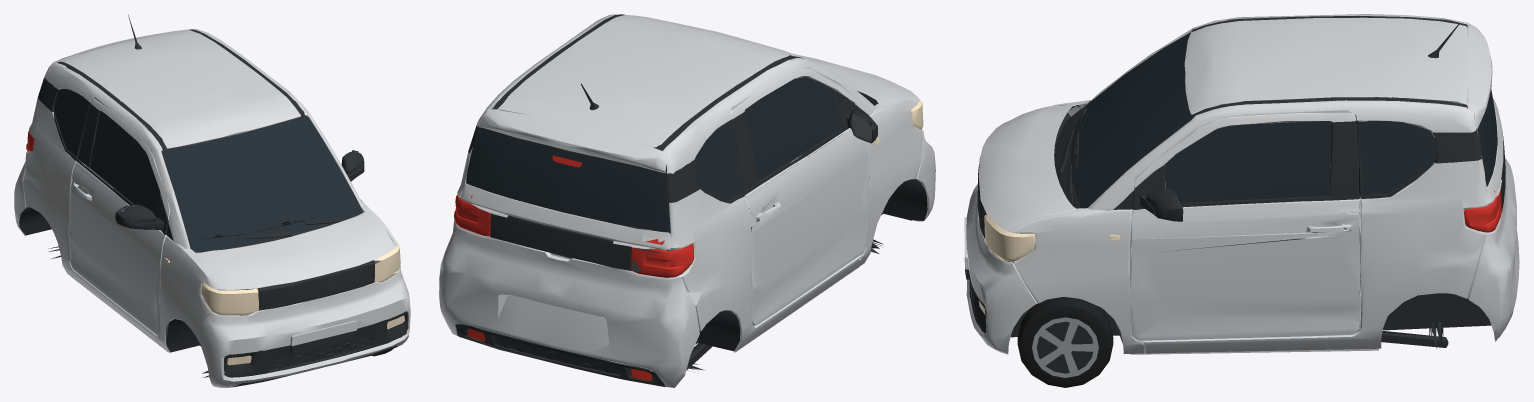
The model's file is micro-ev.glb.
The picture shows the model from 3 angles, left to right: view 1: azimuth 30°, elevation 25°; view 2: azimuth 150°, elevation 25°; view 3: azimuth 270°, elevation 25°; orthographic projection. The views are drawn at different scales.
Parts seen in each view (by area): view 1: Car body, Car glazing, Car trim, Car headlamps; view 2: Car body, Car glazing, Car trim, Car tail lamps; view 3: Car body, Car glazing, Car trim, Wheel tyre, Wheel rim, Car headlamps, Wheel well, Car tail lamps.
Boxes of the visible parts, <box> form: Car body: <box>14,29,410,387</box>; Car glazing: <box>45,67,362,252</box>; Car trim: <box>19,14,408,387</box>; Car headlamps: <box>164,243,404,365</box>; Car body: <box>439,14,935,387</box>; Car glazing: <box>466,55,840,233</box>; Car trim: <box>455,14,927,386</box>; Car tail lamps: <box>454,155,693,380</box>; Car body: <box>964,14,1519,354</box>; Car glazing: <box>1070,31,1497,208</box>; Car trim: <box>965,16,1513,348</box>; Wheel tyre: <box>1017,297,1113,387</box>; Wheel rim: <box>1032,317,1098,377</box>; Car headlamps: <box>978,215,1120,314</box>; Wheel well: <box>1035,317,1095,373</box>; Car tail lamps: <box>1464,99,1501,232</box>.
Bounding box in the file's own units: 1.87 × 1.78 × 2.91.
